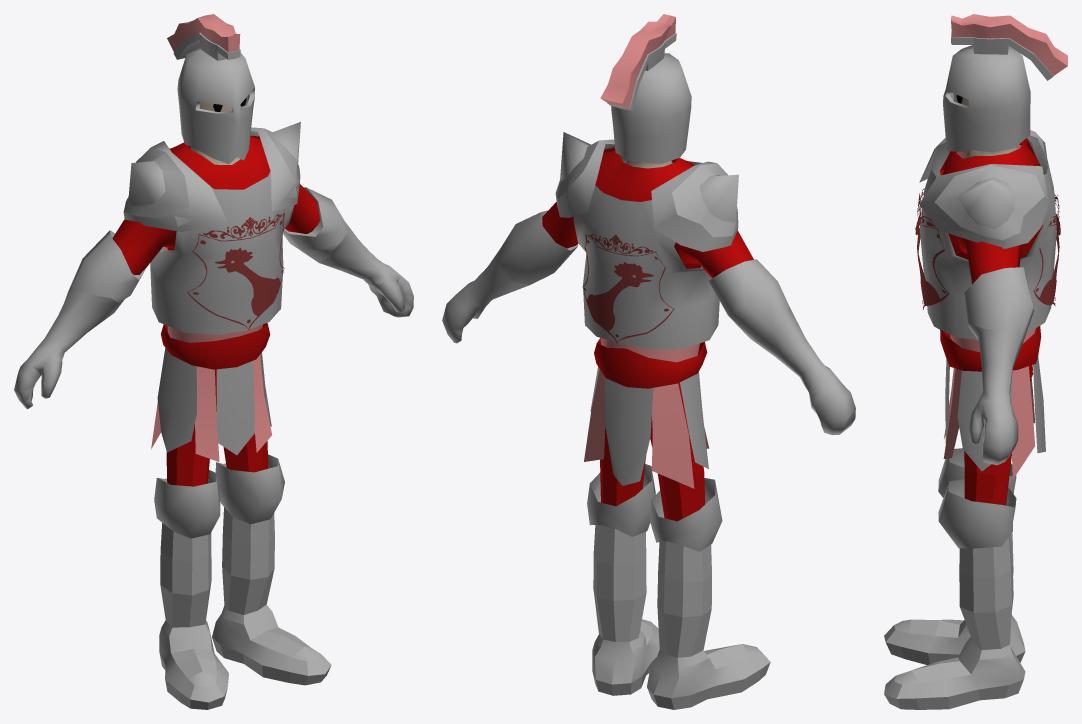
The model's file is villager_knight.fbx.
3 views of the same model, side by side, from view 1: azimuth 30°, elevation 25°; view 2: azimuth 150°, elevation 25°; view 3: azimuth 270°, elevation 25° (orthographic). The views are drawn at different scales.
Parts seen in each view (by area): view 1: chestPlate, boot_L, boot_R, shoulders, helmet, glove_R, trimMetal, glove_L, knee_L, knee_R, trimCloth, polySurface54 (+6 smaller); view 2: chestPlate, boot_R, shoulders, boot_L, glove_R, helmet, glove_L, trimMetal, trimCloth, pants, belt, knee_R (+6 smaller); view 3: boot_L, helmet, shoulders, glove_L, chestPlate, knee_L, boot_R, trimMetal, trimCloth, crop, polySurface54, pants (+7 smaller).
Boxes of the visible parts, x1,y1,x2,y2 form: chestPlate: [150, 131, 296, 334]; boot_L: [212, 507, 331, 685]; boot_R: [159, 523, 228, 709]; shoulders: [123, 122, 300, 231]; helmet: [173, 32, 254, 164]; glove_R: [14, 230, 145, 408]; trimMetal: [157, 348, 271, 455]; glove_L: [282, 187, 413, 317]; knee_L: [215, 454, 284, 524]; knee_R: [154, 470, 220, 538]; trimCloth: [151, 355, 271, 461]; polySurface54: [112, 136, 320, 274]; chestPlate: [573, 144, 719, 349]; boot_R: [647, 540, 770, 709]; shoulders: [555, 132, 738, 251]; boot_L: [592, 501, 659, 695]; glove_R: [709, 259, 855, 435]; helmet: [607, 33, 691, 163]; glove_L: [442, 210, 578, 343]; trimMetal: [590, 367, 708, 485]; trimCloth: [584, 369, 708, 488]; pants: [600, 382, 705, 521]; belt: [594, 338, 707, 388]; knee_R: [650, 478, 722, 551]; boot_L: [884, 534, 1025, 709]; helmet: [943, 31, 1053, 152]; shoulders: [919, 130, 1048, 248]; glove_L: [964, 267, 1033, 465]; chestPlate: [919, 135, 1056, 339]; knee_L: [938, 479, 1016, 548]; boot_R: [884, 533, 1025, 664]; trimMetal: [945, 337, 1045, 471]; trimCloth: [943, 366, 1035, 479]; crop: [951, 14, 1067, 75]; polySurface54: [940, 138, 1044, 284]; pants: [964, 365, 1032, 505].
Bounding box in the file's own units: 13.84 × 21.57 × 5.47.
